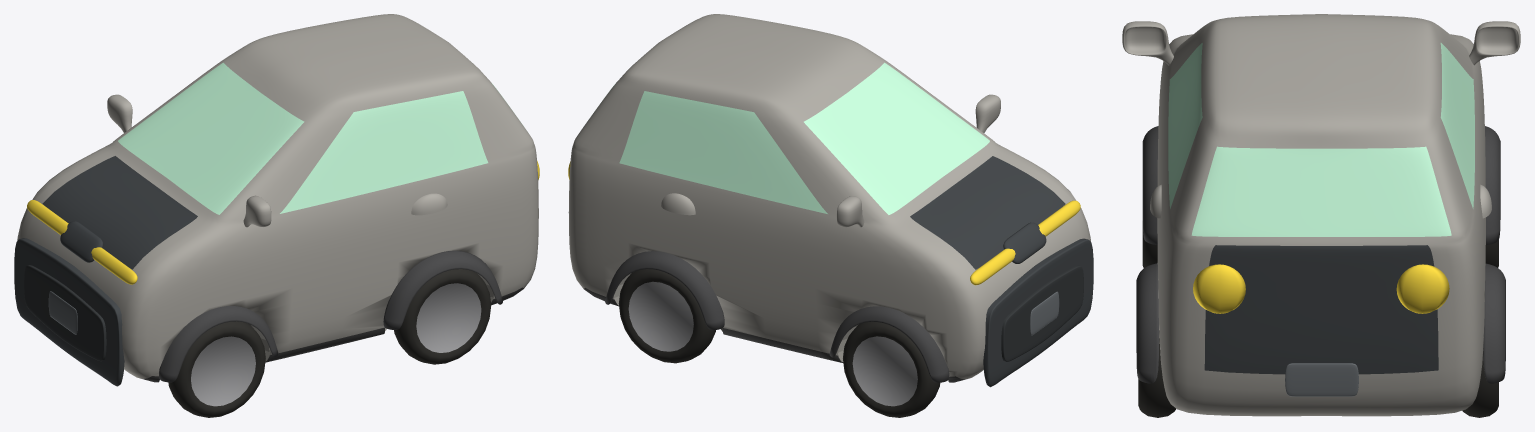
File: CarGray.fbx
The picture shows the model from 3 angles, left to right: view 1: azimuth 30°, elevation 25°; view 2: azimuth 150°, elevation 25°; view 3: azimuth 270°, elevation 25°; orthographic projection. The views are drawn at different scales.
Visible parts, largest first — view 1: CarBodyV2.001, Wheels.002, Wheels.003, Torus, Cube.006, Cube.007, Cube.009, Cube.008, Cube.010, Cube, Cube.005, Cube.011 (+1 smaller); view 2: CarBodyV2.001, Wheels.002, Wheels.003, Torus.001, Cube.006, Cube.007, Cube.009, Cube.008, Cube.011, Cube.005, Cube, Cube.010 (+1 smaller); view 3: CarBodyV2.001, Torus, Sphere.004, Torus.001, Cube.008, Wheels.003, Cube, Cube.005, Wheels.002.
Part boxes in pixels (x1,y1,x2,y2): CarBodyV2.001: (17,14,538,382); Wheels.002: (168,321,265,417); Wheels.003: (394,269,491,364); Torus: (159,250,502,382); Cube.006: (14,238,124,386); Cube.007: (24,265,106,361); Cube.009: (60,221,103,262); Cube.008: (48,291,77,334); Cube.010: (91,247,137,284); Cube: (243,195,271,227); Cube.005: (107,94,132,132); Cube.011: (27,200,68,234); CarBodyV2.001: (568,14,1090,382); Wheels.002: (843,321,940,417); Wheels.003: (618,269,715,363); Torus.001: (605,251,949,382); Cube.006: (983,238,1093,387); Cube.007: (1001,265,1083,361); Cube.009: (1003,222,1046,263); Cube.008: (1030,291,1059,335); Cube.011: (970,248,1015,285); Cube.005: (836,196,864,227); Cube: (975,94,1000,132); Cube.010: (1038,200,1080,236); CarBodyV2.001: (1157,14,1485,416); Torus: (1136,126,1158,383); Sphere.004: (1193,264,1449,313); Torus.001: (1483,126,1505,383); Cube.008: (1285,363,1358,396); Wheels.003: (1138,330,1498,417); Cube: (1122,21,1173,65); Cube.005: (1469,21,1520,65); Wheels.002: (1142,221,1498,267).
Bounding box in the file's own units: 415 × 247 × 259.
